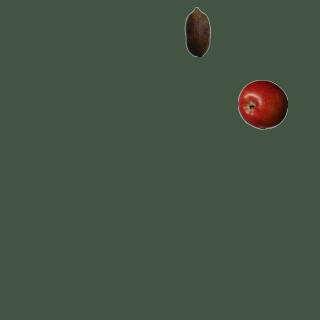Apple Braeburn: (237, 79, 287, 129)
Nut Pecan: (172, 6, 222, 56)
